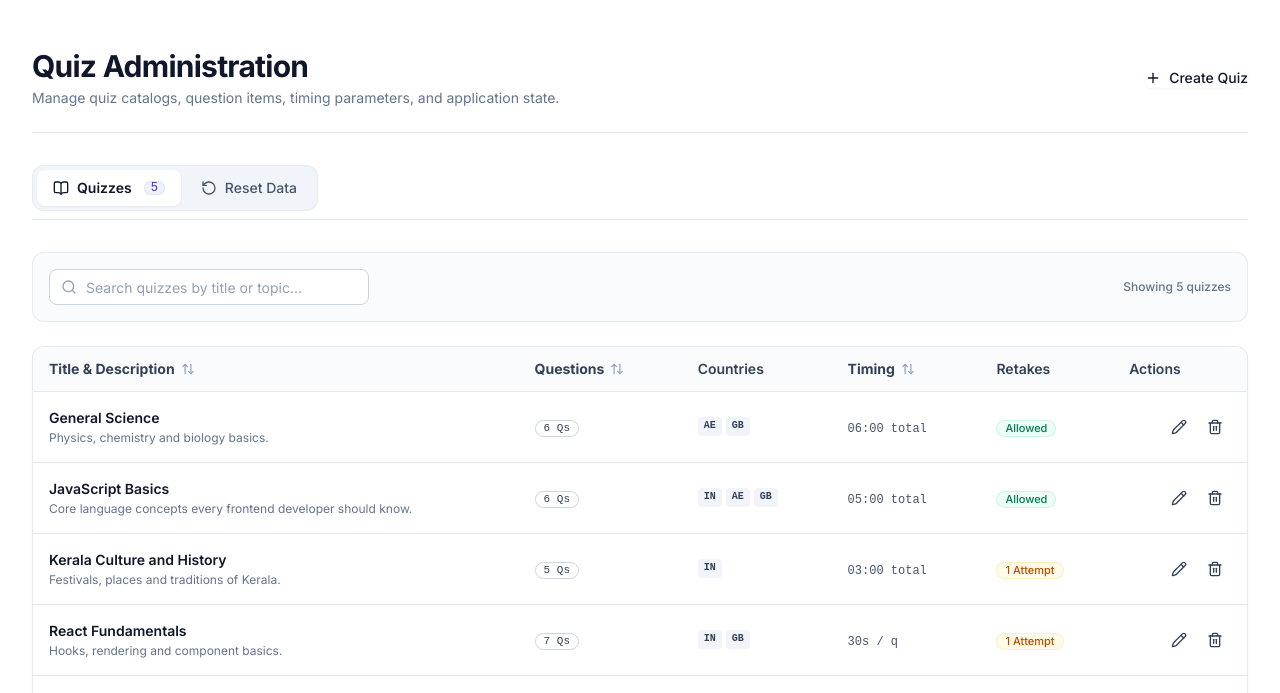
AdminDashboardPage (Task 40-44) › opens Create Quiz modal dialog
Check: the text "JavaScript Basics" is shown, box [49,480,169,496]
Click the button "Create Quiz" at (1197, 78), box [1145,68,1248,88]
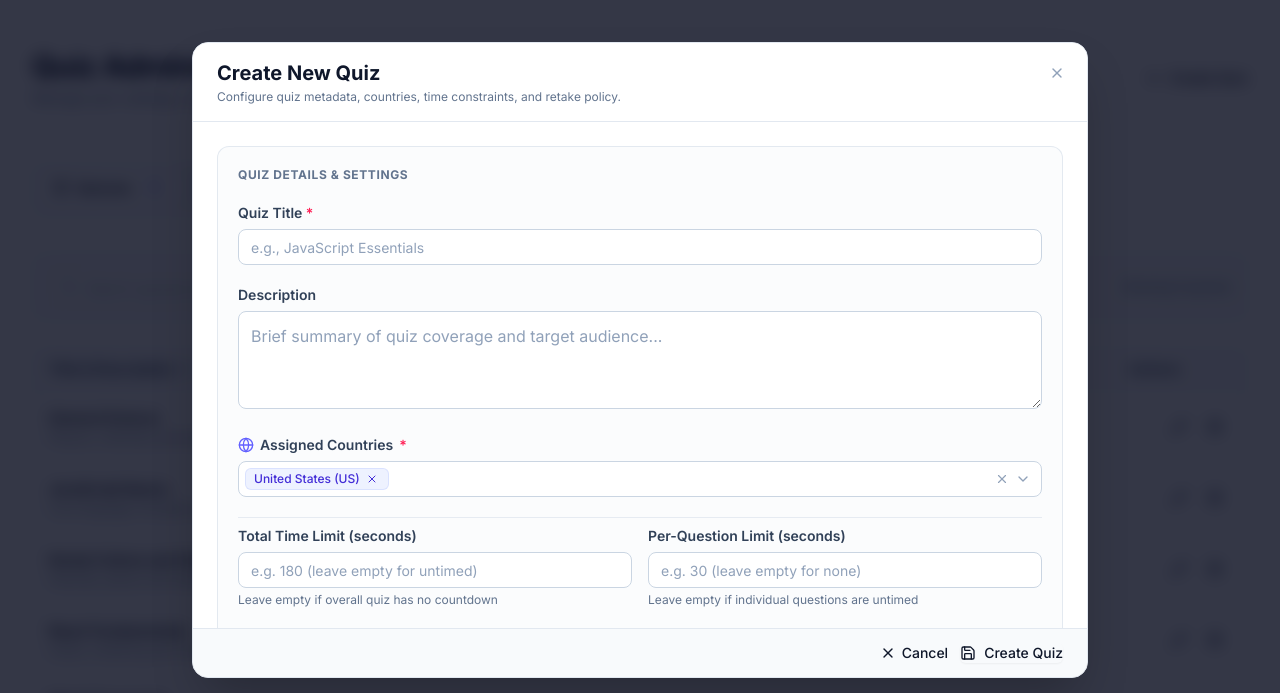
Check: the heading "Create New Quiz" is shown, box [217,61,380,85]
Check: the field with placeholder "e.g., JavaScript Essentials" is shown, box [238,229,1042,265]
